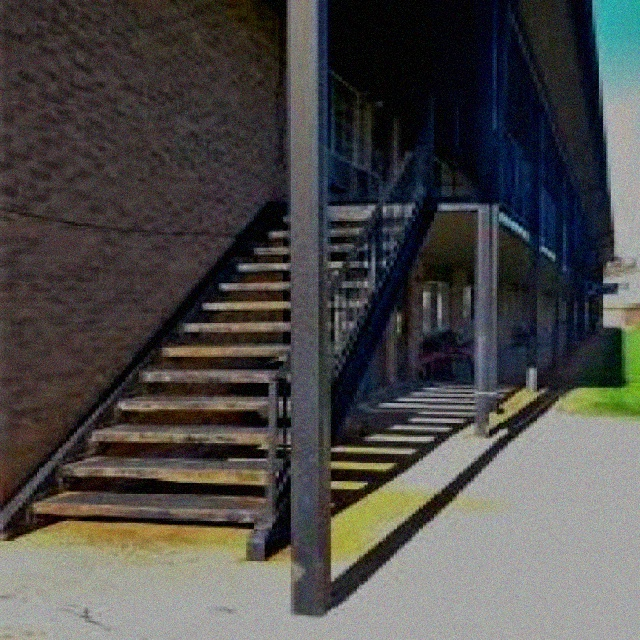stair: (4, 139, 485, 536)
